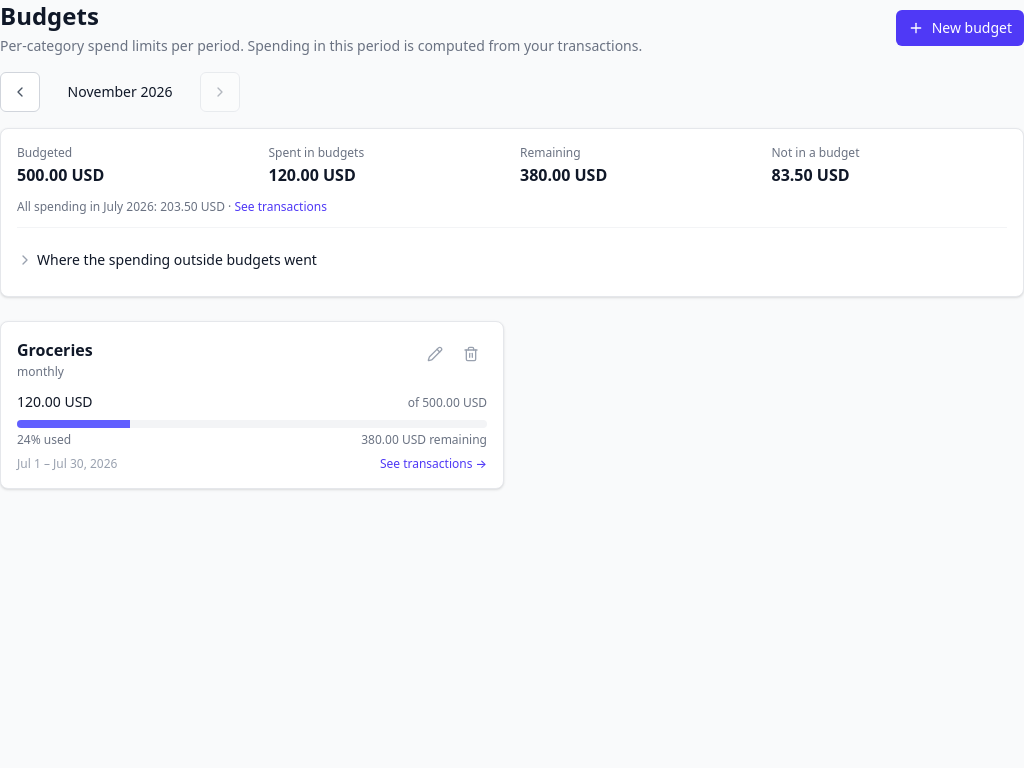
it: BudgetsPage budget card › names edit and delete after the budget and opens the editor
Click the button named "Edit Groceries budget". click: (435, 354)
box: x1=419 y1=338 x2=451 y2=370
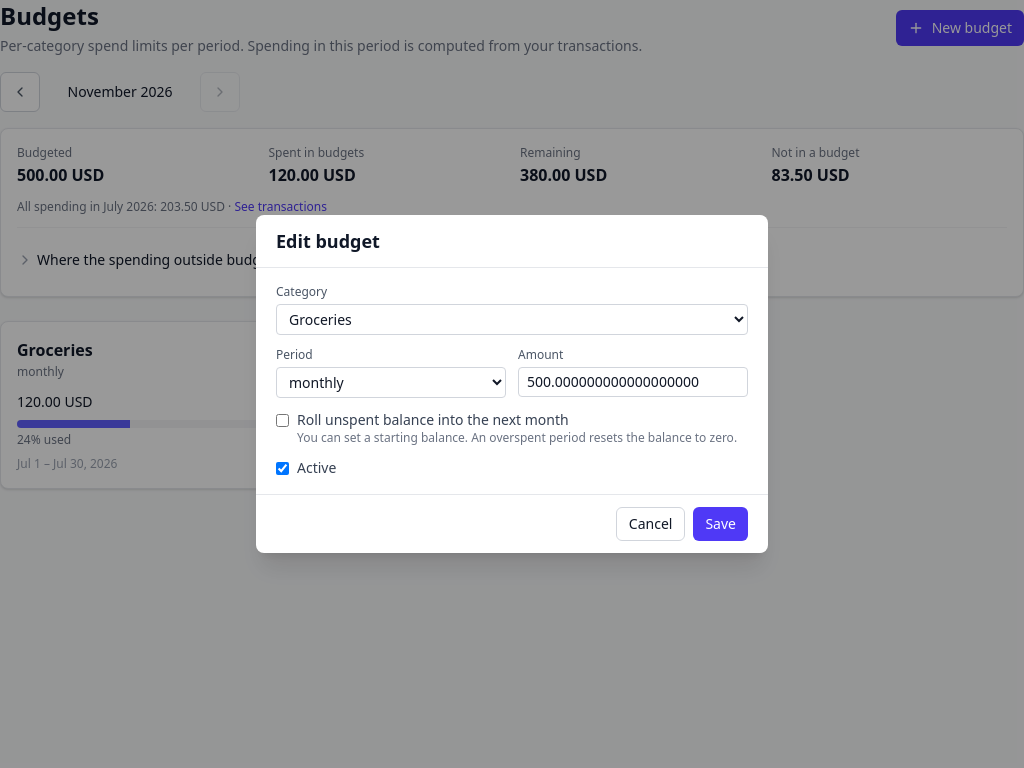
Expected: the button named "Delete Groceries budget" is shown, x1=455 y1=338 x2=487 y2=370
Expected: the dialog "Edit budget" is shown, x1=256 y1=215 x2=768 y2=553
